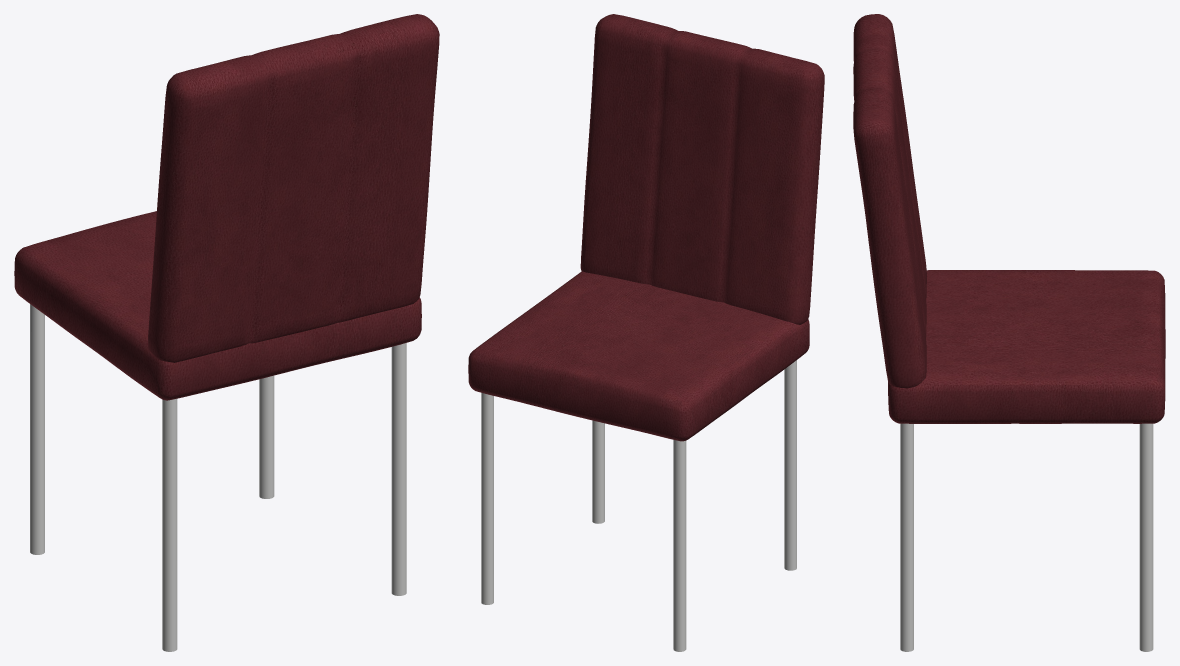
The model's file is recuwTczDjnODSxOJ.glb.
3 renders of one model, left to right at view 1: azimuth 30°, elevation 25°; view 2: azimuth 150°, elevation 25°; view 3: azimuth 270°, elevation 25°, orthographic. The views are drawn at different scales.
Parts seen in each view (by area): view 1: Chaise_1_Dossier, Chaise_1_Assise, Chaise_1_Pieds; view 2: Chaise_1_Dossier, Chaise_1_Assise, Chaise_1_Pieds; view 3: Chaise_1_Assise, Chaise_1_Dossier, Chaise_1_Pieds.
Part boxes in pixels (x1=…): Chaise_1_Dossier: x1=148, y1=14, x2=439, y2=362; Chaise_1_Assise: x1=14, y1=211, x2=421, y2=400; Chaise_1_Pieds: x1=30, y1=304, x2=406, y2=651; Chaise_1_Dossier: x1=580, y1=14, x2=824, y2=324; Chaise_1_Assise: x1=468, y1=271, x2=809, y2=441; Chaise_1_Pieds: x1=481, y1=360, x2=796, y2=651; Chaise_1_Assise: x1=888, y1=270, x2=1165, y2=423; Chaise_1_Dossier: x1=853, y1=14, x2=926, y2=388; Chaise_1_Pieds: x1=900, y1=423, x2=1153, y2=651.
Bounding box in the file's own units: 0.4406 × 0.9328 × 0.4958.
Materials: 2 (1 with a texture image).
